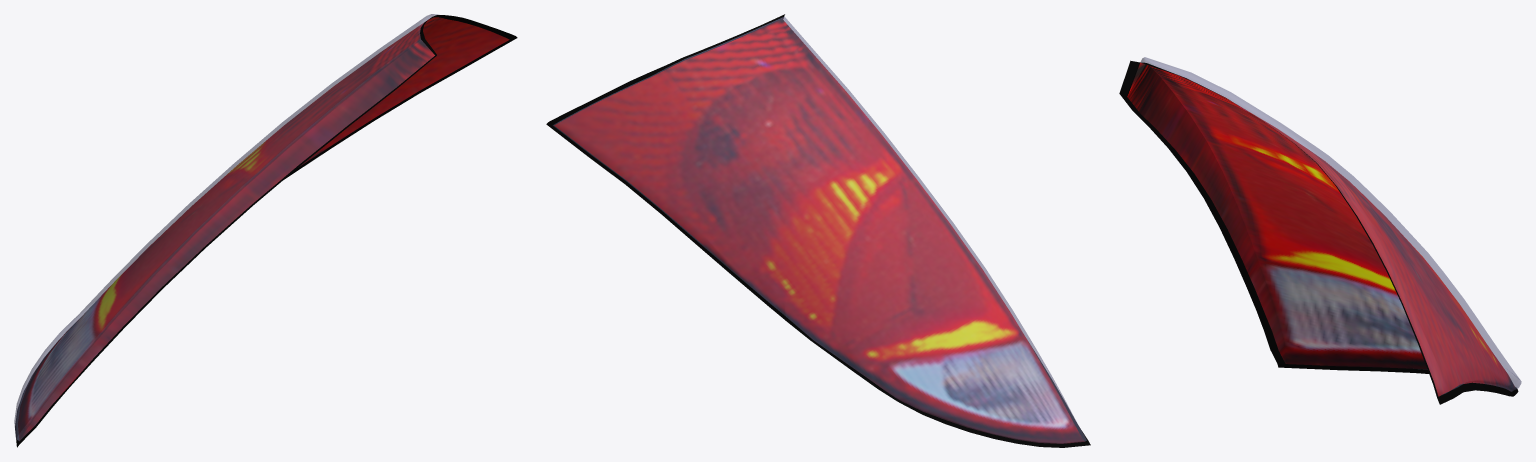
3 renders of one model, left to right at view 1: azimuth 30°, elevation 25°; view 2: azimuth 150°, elevation 25°; view 3: azimuth 270°, elevation 25°, orthographic. The views are drawn at different scales.
Parts seen in each view (by area): view 1: P158_541C_L_P158_541C_L_2_N, P158_541C_L_1_DTaSI_P158_541C_L, P158_541C_L_P158_541C_L_3_D; view 2: P158_541C_L_1_DTaSI_P158_541C_L, P158_541C_L_P158_541C_L_2_N, P158_541C_L_P158_541C_L_3_D; view 3: P158_541C_L_P158_541C_L_2_N, P158_541C_L_1_DTaSI_P158_541C_L, P158_541C_L_P158_541C_L_3_D.
Boxes of the visible parts, bbox=[...] form: P158_541C_L_P158_541C_L_2_N: bbox=[18, 17, 509, 440]; P158_541C_L_1_DTaSI_P158_541C_L: bbox=[14, 14, 438, 440]; P158_541C_L_P158_541C_L_3_D: bbox=[15, 15, 517, 447]; P158_541C_L_1_DTaSI_P158_541C_L: bbox=[553, 16, 1086, 443]; P158_541C_L_P158_541C_L_2_N: bbox=[554, 18, 1084, 443]; P158_541C_L_P158_541C_L_3_D: bbox=[546, 14, 1090, 447]; P158_541C_L_P158_541C_L_2_N: bbox=[1127, 62, 1514, 396]; P158_541C_L_1_DTaSI_P158_541C_L: bbox=[1140, 57, 1521, 396]; P158_541C_L_P158_541C_L_3_D: bbox=[1119, 60, 1518, 404].
Size of the model in its own units: 63.19 by 38.44 by 21.82.
